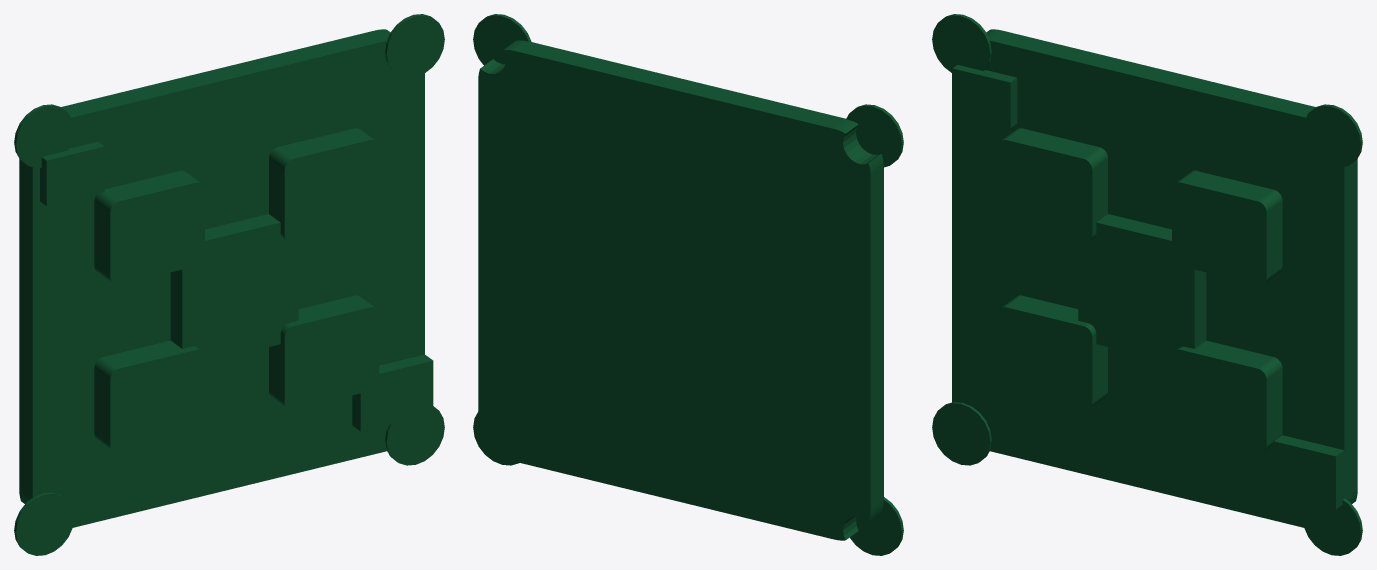
File: board_stratos.glb
3 views of the same model, side by side, from view 1: azimuth 30°, elevation 25°; view 2: azimuth 150°, elevation 25°; view 3: azimuth 330°, elevation 25° (orthographic).
Visible parts, largest first — view 1: board_stratos; view 2: board_stratos; view 3: board_stratos.
Part boxes in pixels (box(x1,y1,x2,y2)): board_stratos: box(14, 14, 444, 555); board_stratos: box(473, 14, 903, 555); board_stratos: box(932, 14, 1362, 555).
Bounding box in the file's own units: 0.0295 × 0.0295 × 0.0035.
